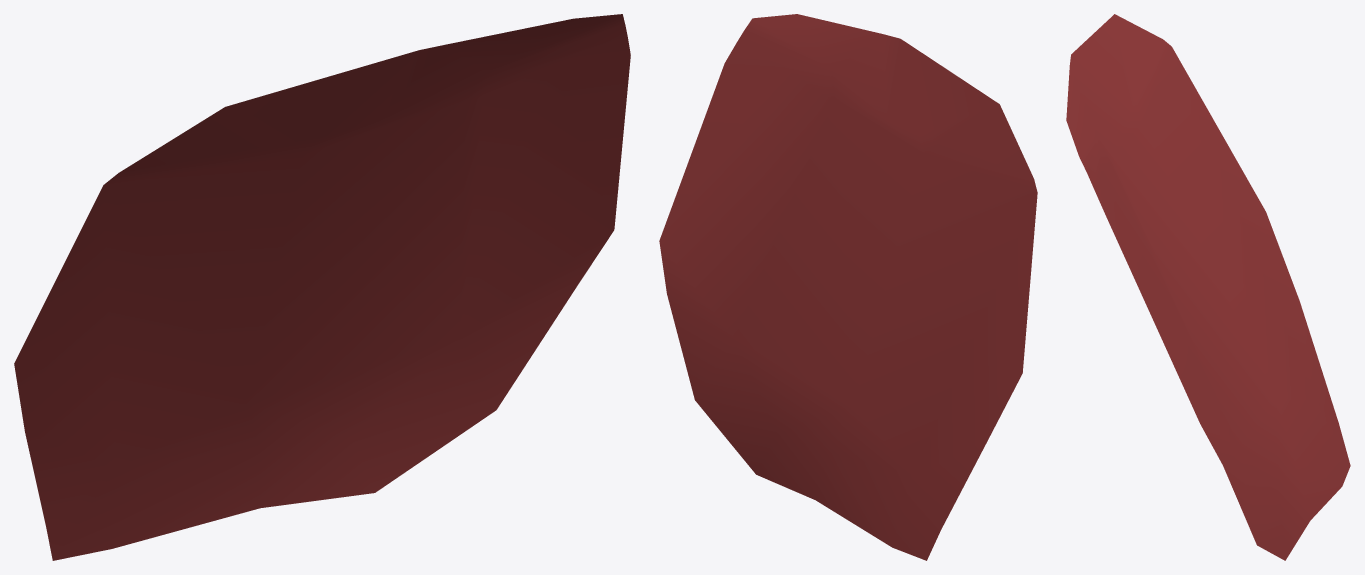
File: longissimus-thoracis-muscle-e18r.glb
3 views of the same model, side by side, from view 1: azimuth 30°, elevation 25°; view 2: azimuth 150°, elevation 25°; view 3: azimuth 270°, elevation 25° (orthographic). The views are drawn at different scales.
Parts seen in each view (by area): view 1: Longissimus thoracis muscle.e18r; view 2: Longissimus thoracis muscle.e18r; view 3: Longissimus thoracis muscle.e18r.
Part boxes in pixels (x1,y1,x2,y2): Longissimus thoracis muscle.e18r: [14, 14, 630, 560]; Longissimus thoracis muscle.e18r: [659, 14, 1037, 560]; Longissimus thoracis muscle.e18r: [1066, 14, 1350, 560].
Bounding box in the file's own units: 0.00744 × 0.00736 × 0.00383.
